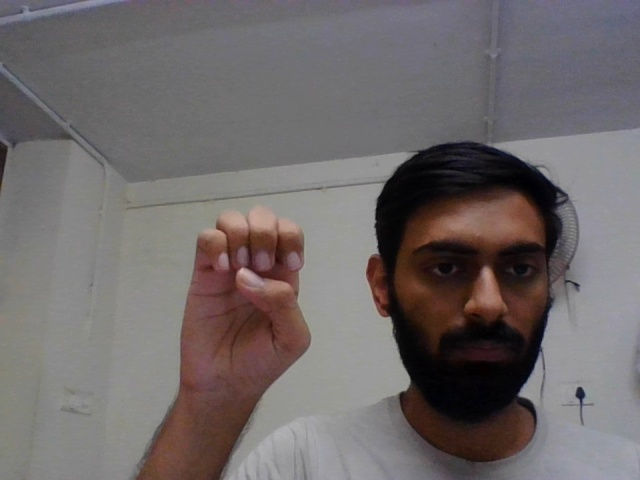E: (162, 196, 317, 420)
